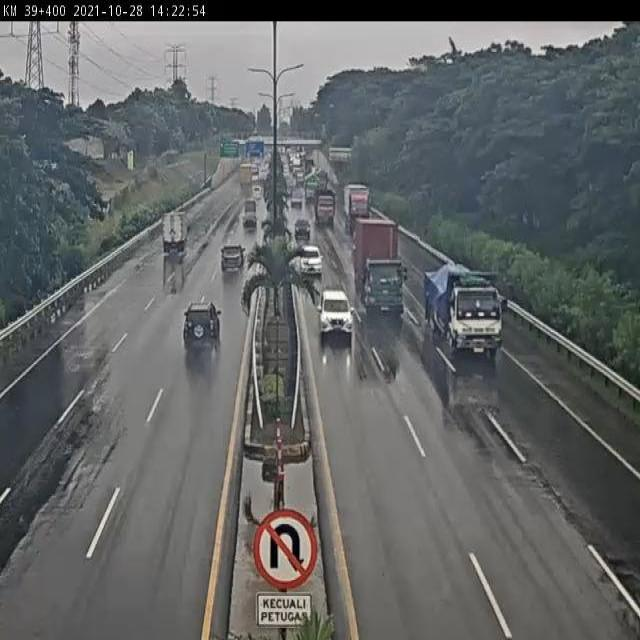car: (221, 244, 244, 269)
truck-l-: (424, 262, 503, 358)
truck-m-: (163, 212, 187, 253)
truck-xl-: (354, 217, 407, 320)
